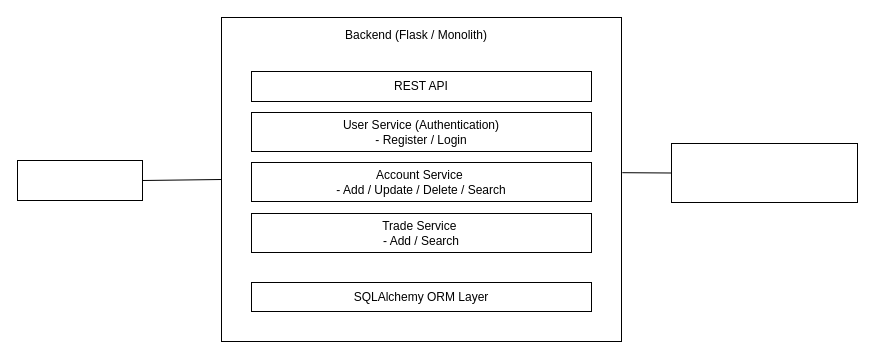
Image size: 875x359. Some labels were removed from this diagram. Each missing label, with the centre of its shape:
"Database (MYSQL Dockerized Database)" goes at (764,172).
"Frontend (React)" goes at (79,180).
